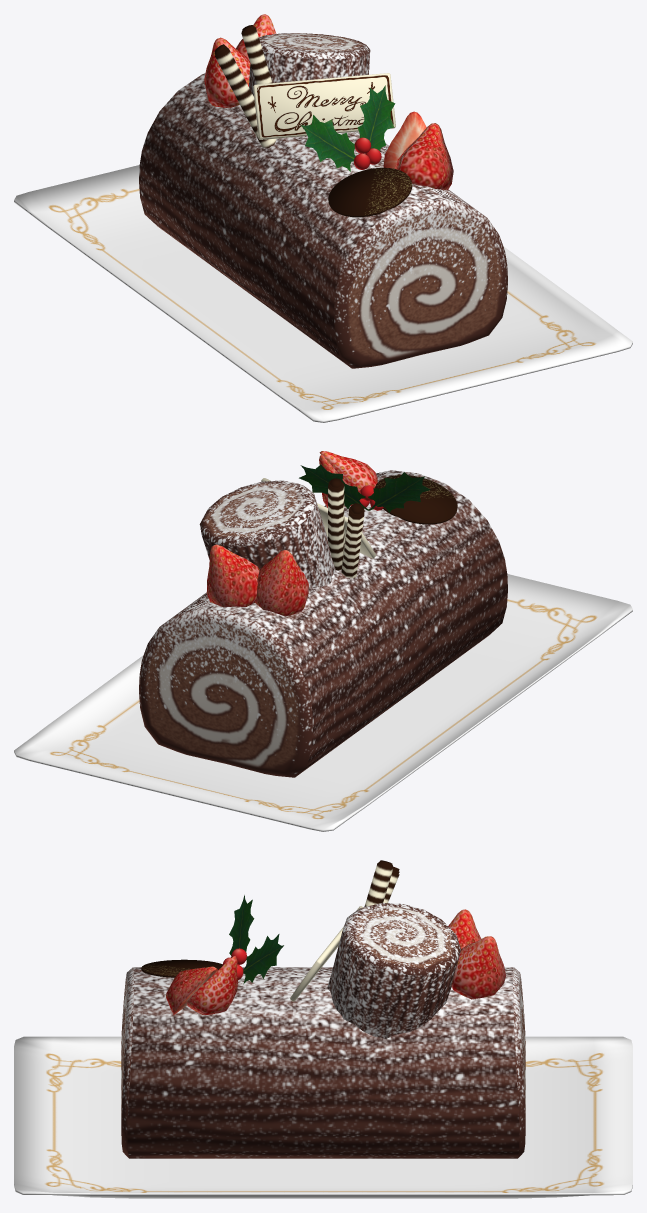
File: Buche_de_Noel.fbx
3 views of the same model, one above another, from view 1: azimuth 30°, elevation 25°; view 2: azimuth 150°, elevation 25°; view 3: azimuth 270°, elevation 25° (orthographic).
Parts seen in each view (by area): view 1: Buche de Noel; view 2: Buche de Noel; view 3: Buche de Noel.
Part boxes in pixels (box(x1,y1,x2,y2)): Buche de Noel: box(14, 14, 632, 422); Buche de Noel: box(14, 451, 632, 831); Buche de Noel: box(14, 860, 632, 1198).
Size of the model in its own units: 0.2297 by 0.1743 by 0.3837.
